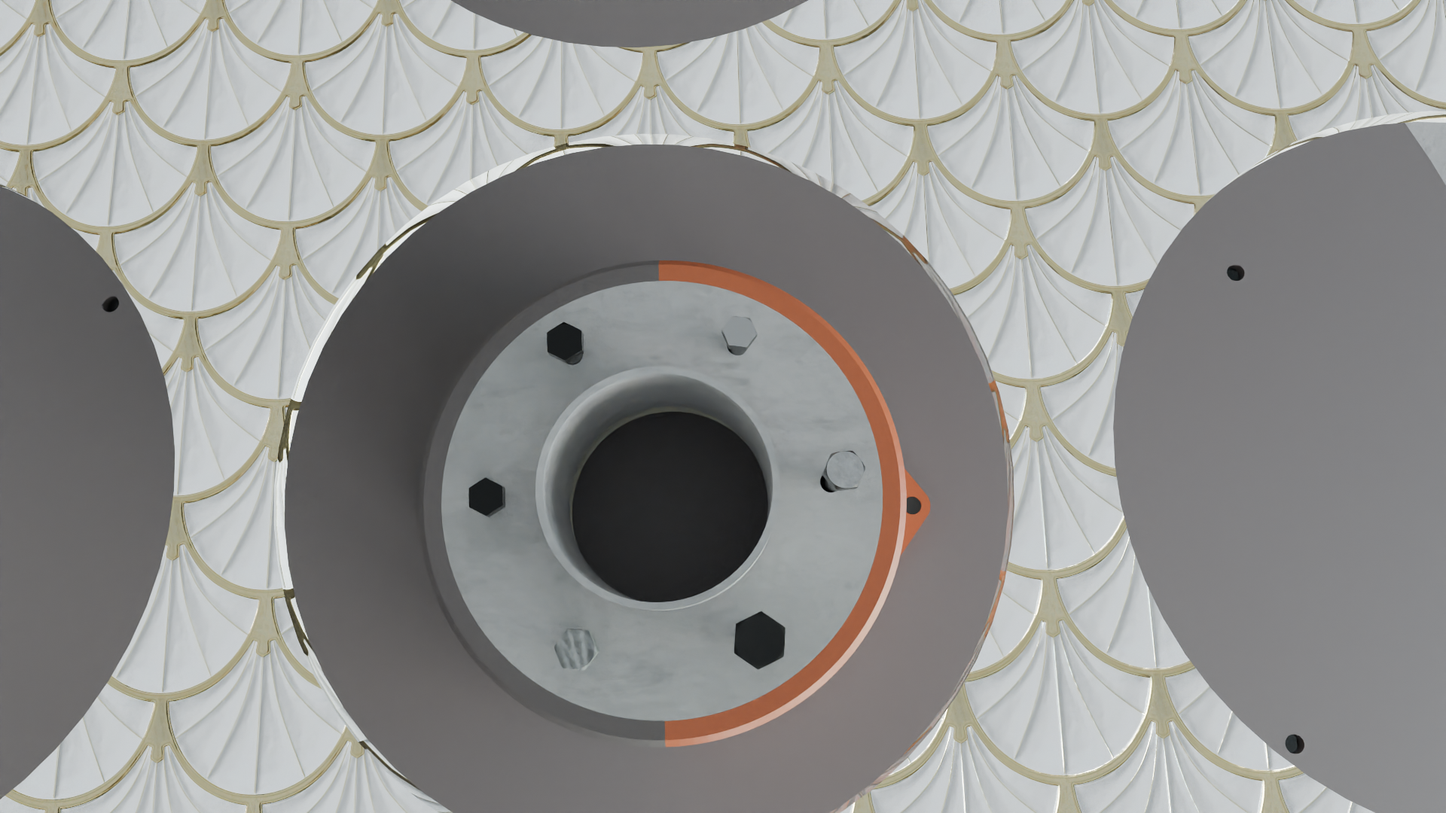bolt: (734, 611, 786, 669), (554, 629, 597, 670), (824, 451, 865, 489), (547, 322, 582, 361), (468, 477, 503, 516), (722, 316, 757, 347)
